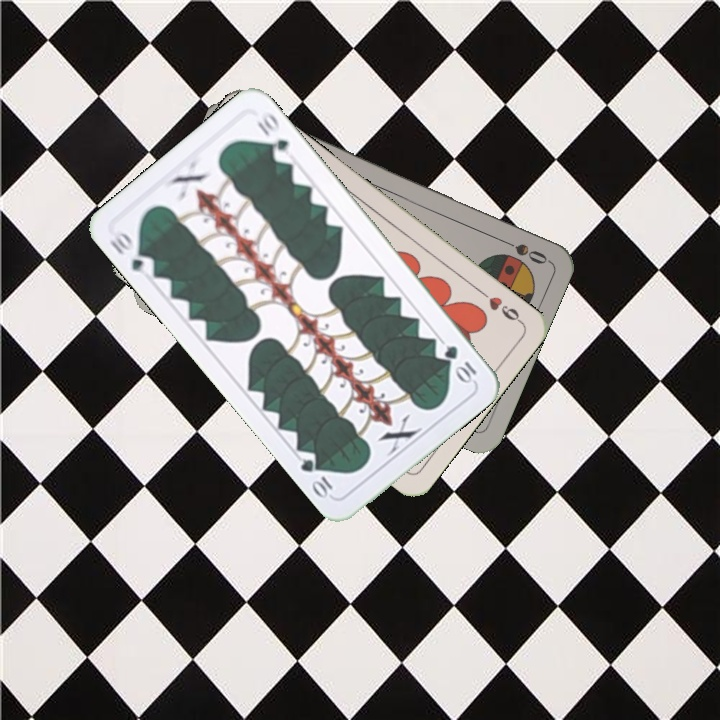G10: (106, 227, 158, 280), (440, 341, 479, 386)
H9: (474, 285, 524, 326)
SO: (494, 234, 550, 267)
